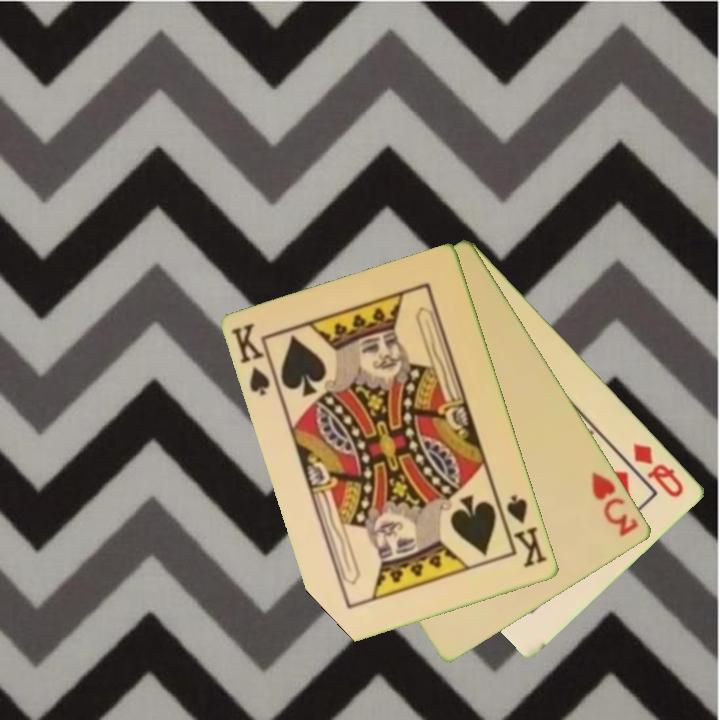3h: (588, 467, 642, 540)
Ks: (497, 491, 551, 571), (228, 320, 282, 399)
Qd: (630, 439, 688, 501)
